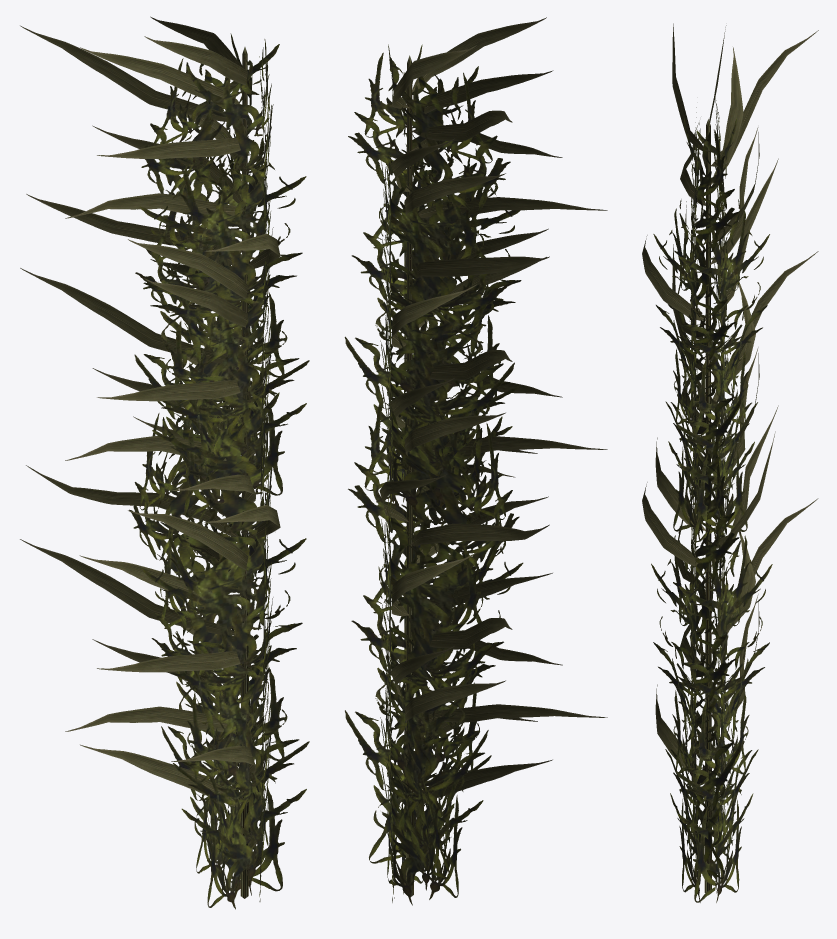
The model's file is kelp.dae.
3 renders of one model, left to right at view 1: azimuth 30°, elevation 25°; view 2: azimuth 150°, elevation 25°; view 3: azimuth 270°, elevation 25°, orthographic. The views are drawn at different scales.
Parts seen in each view (by area): view 1: polySurface8, polySurface9; view 2: polySurface8, polySurface9; view 3: polySurface8, polySurface9.
Boxes of the visible parts, bbox=[...] form: polySurface8: bbox=[129, 33, 309, 909]; polySurface9: bbox=[20, 16, 280, 898]; polySurface8: bbox=[344, 44, 523, 905]; polySurface9: bbox=[379, 17, 607, 896]; polySurface8: bbox=[651, 98, 772, 902]; polySurface9: bbox=[642, 23, 818, 895].
Size of the model in its own units: 0.9383 by 3.42 by 0.6782.
